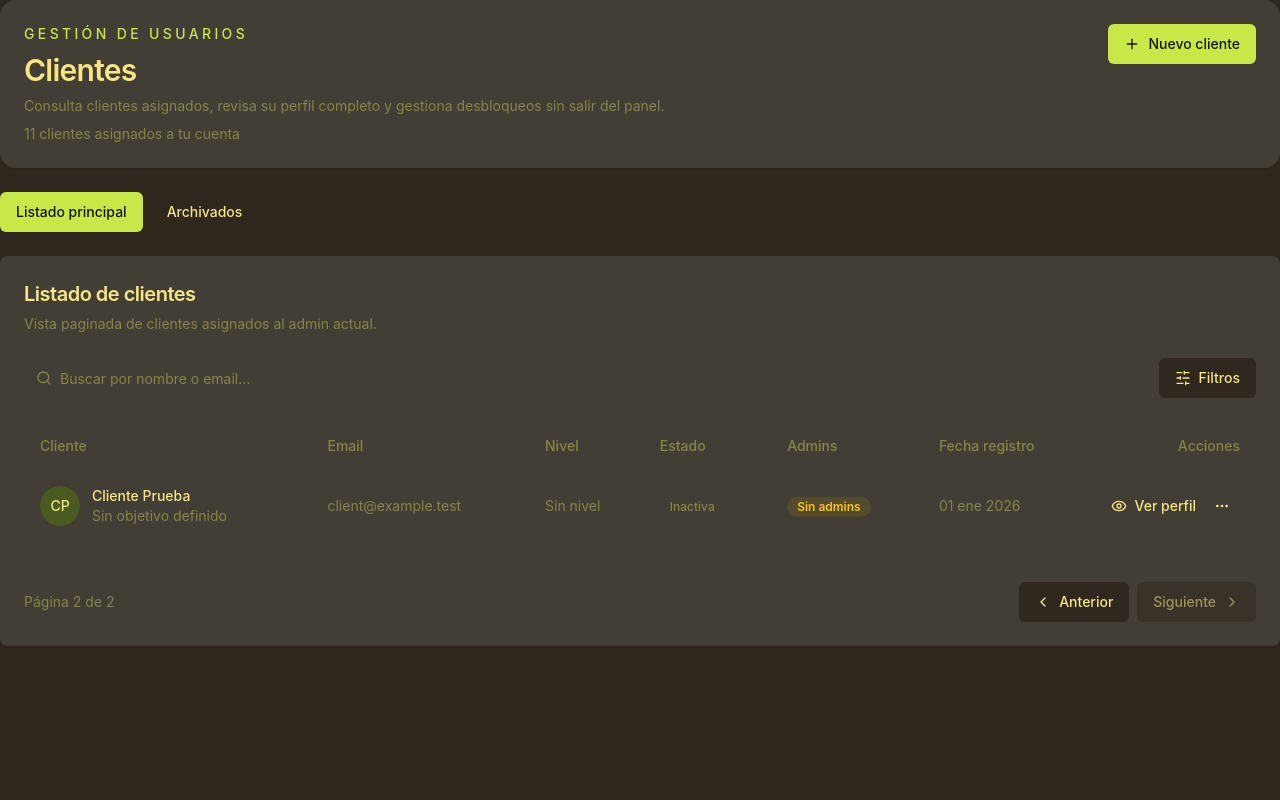
Scenario: Client list archive lifecycle › returns to page one after archiving the last row of page two
Check: the text "Página 2 de 2" is shown, box [24,592,115,612]
Click the button named "Acciones de Cliente Prueba". click: (1222, 506)
box: [1204,488,1240,524]
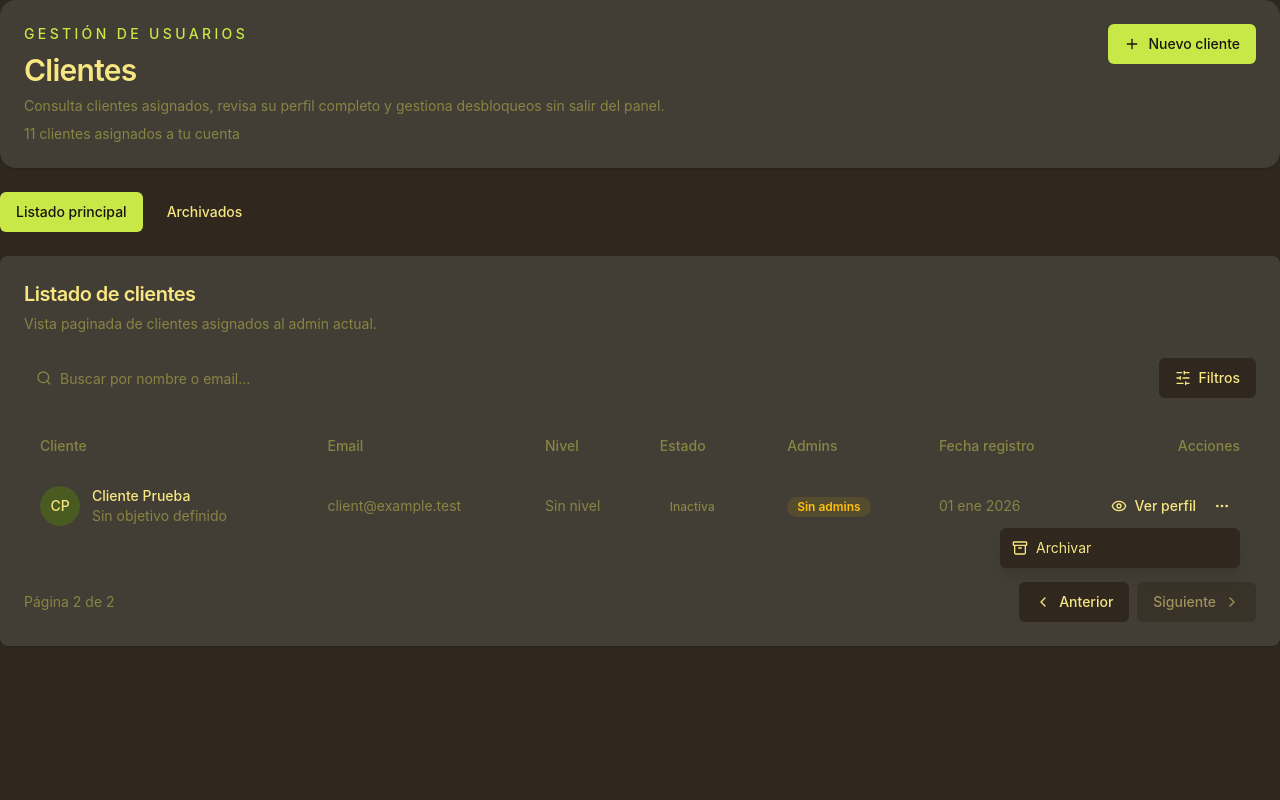
Click the menu item "Archivar". click: (1052, 548)
box: [1012,539,1091,556]
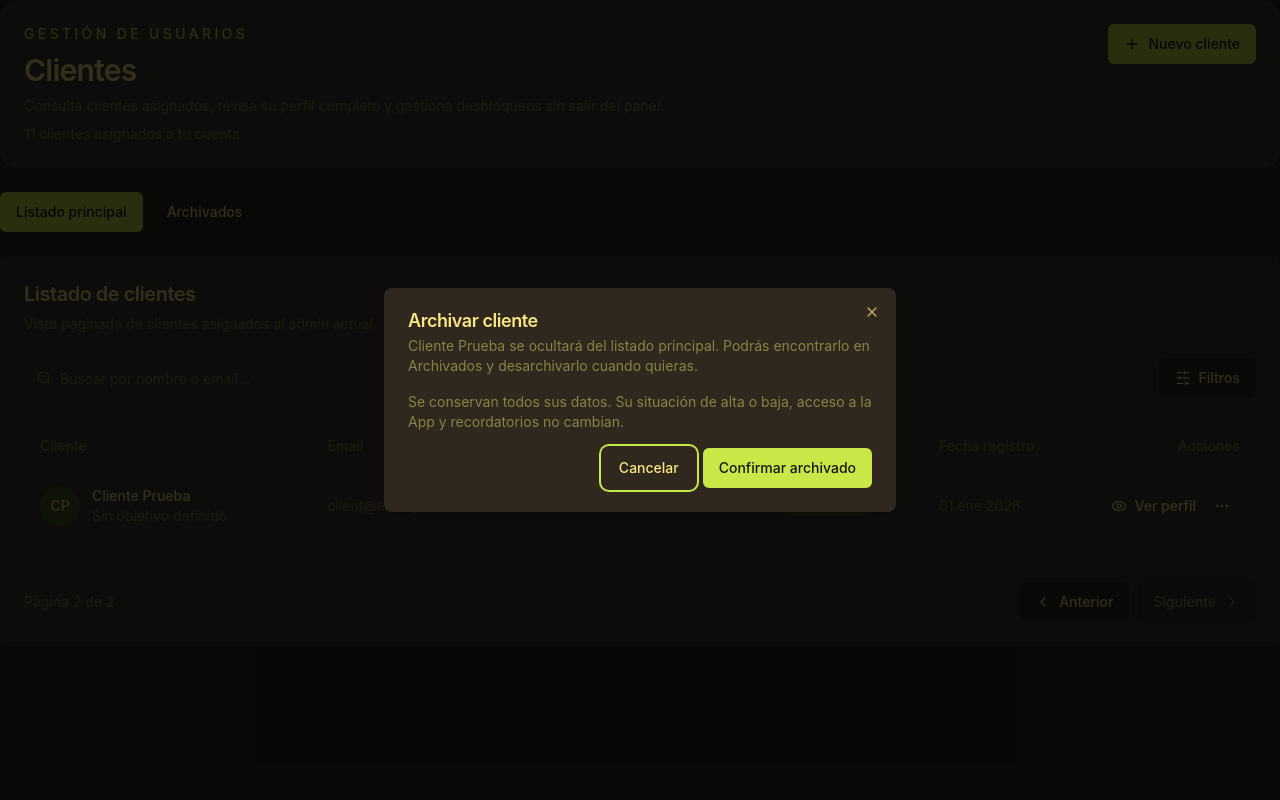
Click the button "Confirmar archivado". click: (787, 468)
box: [703,448,872,488]
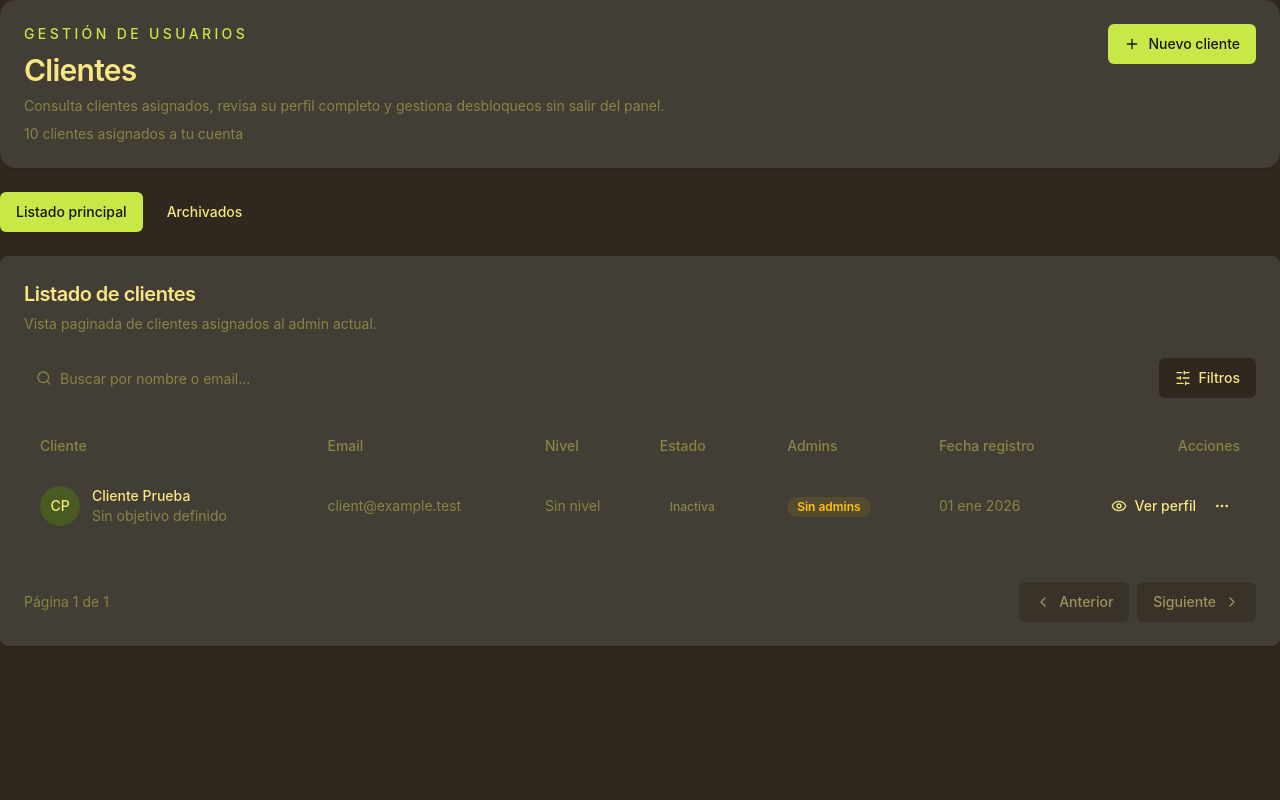
Check: the text "Página 1 de 1" is shown, box [24,592,109,612]
